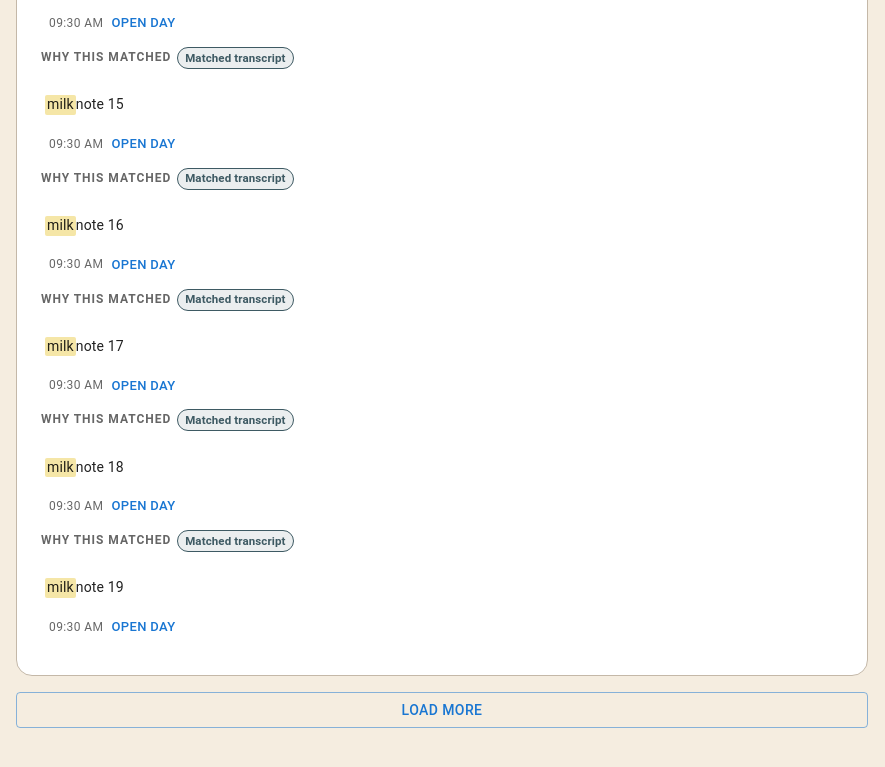
Test: SearchPage › loads more results when requested
The width and height of the screenshot is (885, 767).
(page scrolled)
Click the button "Load more" at point(442, 710), box [16, 692, 868, 728]
(page scrolled)
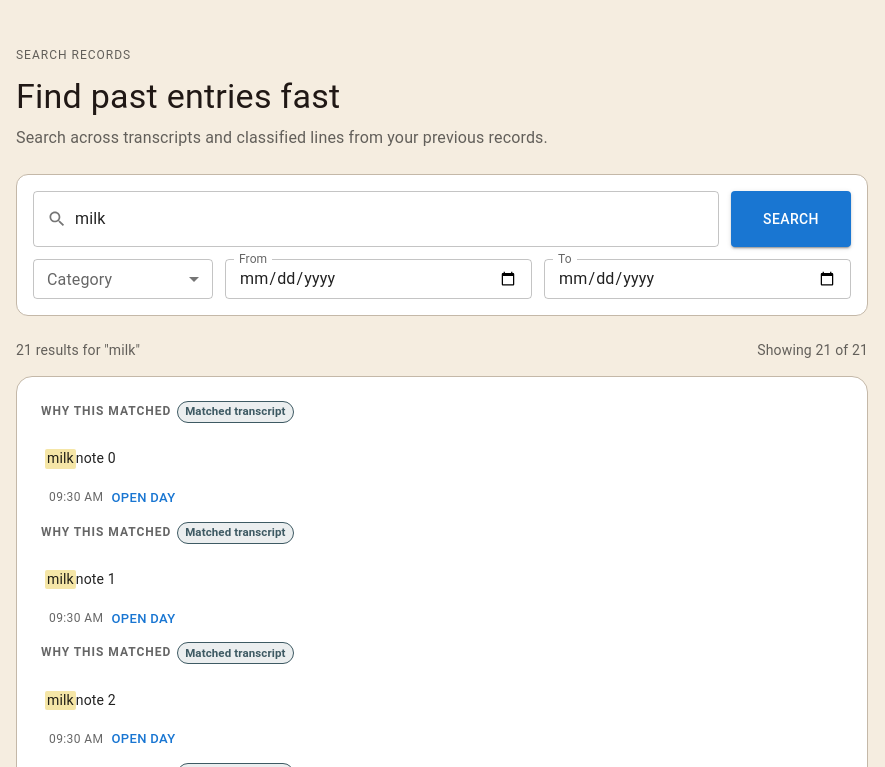
Check: the text "Showing 21 of 21" is shown, box [757, 340, 868, 360]
